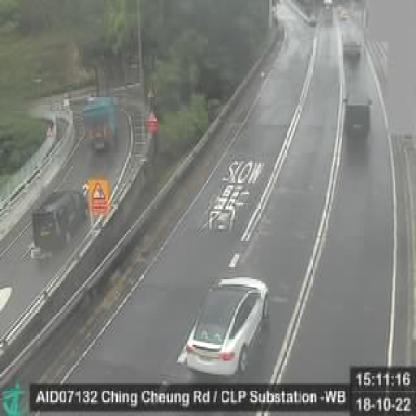Car: (179, 275, 271, 380), (32, 189, 90, 253), (341, 91, 374, 141)
Truck: (80, 95, 122, 153)
